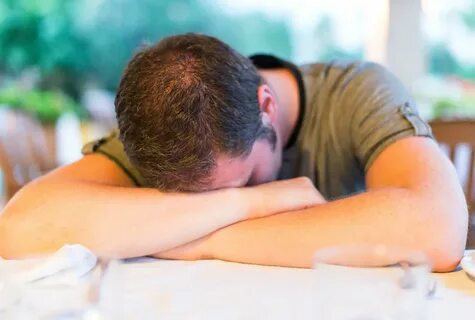sleep: (2, 32, 470, 277)
